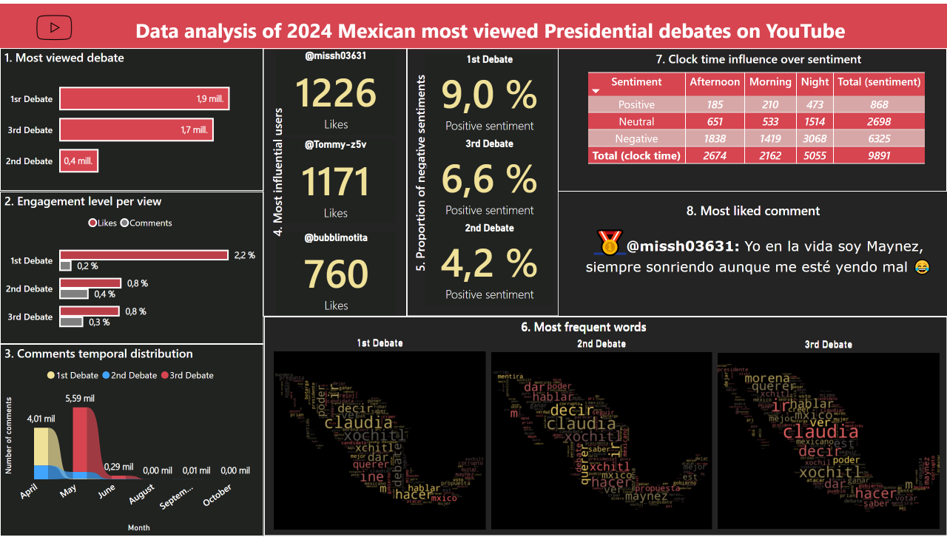

What the dashboard file says about the page in this screenshot:
{"tool":"powerbi","page":{"name":"Page 1","canvas":[1280,720],"ordinal":0},"visuals":[{"type":"shape","box":[0,0,1280,61.7],"z":0},{"type":"barChart","title":"1. Most viewed debate","fields":{"Y":["Sum(Query1.view_count)"],"Category":["Query1.title (groups)"]},"box":[0,60,356.7,192.9],"z":0,"group":"g3"},{"type":"shape","box":[355.2,60,195.9,362.9],"z":0,"group":"g6"},{"type":"shape","box":[549.2,60,206.2,362.5],"z":0,"group":"g7"},{"type":"card","fields":{"Values":["Sum(Query5.positive_ratio)"]},"box":[576.7,67.2,171.6,114.2],"z":0,"group":"g11"},{"type":"shape","box":[528.6,418,519.8,34.9],"z":0,"group":"g8"},{"type":"shape","box":[528.6,419,519.8,34.9],"z":0,"group":"g9"},{"type":"group","id":"g1","title":"Group 1","box":[373.1,62.2,162.9,359.2],"z":1000,"group":"g6"},{"type":"card","fields":{"Values":["Sum(Query4.likes_count)"]},"box":[373.1,62.2,162.6,115.6],"z":1000,"group":"g1"},{"type":"card","fields":{"Values":["Sum(Query5.positive_ratio)"]},"box":[576.7,181.4,171.6,114.2],"z":1000,"group":"g11"},{"type":"clusteredBarChart","title":"2. Engagement level per view","fields":{"Y":["Sum(Query2.like_percent)","Sum(Query2.comment_percent)"],"Category":["Query2.title (groups)"]},"box":[0,254,356.7,206],"z":1000,"group":"g3"},{"type":"shape","box":[758,262,520,34],"z":1000},{"type":"shape","box":[356.6,421.6,923.4,297.4],"z":1000,"group":"g8"},{"type":"shape","box":[356.6,422.6,923.4,297.4],"z":1000,"group":"g9"},{"type":"image","box":[0,0,146.7,64.4],"z":2000},{"type":"card","fields":{"Values":["Sum(Query5.positive_ratio)"]},"box":[576.7,295.6,171.6,114.2],"z":2000,"group":"g11"},{"type":"image","title":"1st Debate","box":[364.9,449.7,296.7,265],"z":2000,"group":"g8"},{"type":"image","title":"1st Debate","box":[364.9,450.7,296.7,265],"z":2000,"group":"g9"},{"type":"ribbonChart","title":"3. Comments temporal distribution","fields":{"Category":["Query3.updated_at_corrected.Variation.Date Hierarchy.Month"],"Y":["CountNonNull(Query3.comment_preprocessed)"],"Series":["Query3.title (groups)"]},"box":[0,460,356.7,260],"z":2000,"group":"g3"},{"type":"textbox","box":[178.3,11.7,1030,48.3],"z":3000},{"type":"group","id":"g2","title":"Group 3","box":[345.4,60,205.7,362.9],"z":3000,"group":"g5"},{"type":"card","fields":{"Values":["Sum(Query4.likes_count)"]},"box":[373.1,307.8,162.9,113.6],"z":3000,"group":"g1"},{"type":"image","title":"2nd Debate","box":[658.3,451.3,308.3,263.3],"z":3000,"group":"g8"},{"type":"image","title":"2nd Debate","box":[658.3,452.3,308.3,263.3],"z":3000,"group":"g9"},{"type":"group","id":"g3","title":"Group 9","box":[0,60,356.7,660],"z":4000},{"type":"group","id":"g4","title":"Group 6","box":[535.4,60,220,362.5],"z":4000,"group":"g5"},{"type":"image","title":"3rd Debate","box":[964.6,452,310,262],"z":4000,"group":"g8"},{"type":"image","title":"3rd Debate","box":[964.6,453,310,262],"z":4000,"group":"g9"},{"type":"group","id":"g5","title":"Group 10","box":[345.4,60,410,363.3],"z":5000},{"type":"card","fields":{"Values":["Sum(Query4.likes_count)"]},"box":[373.1,181.8,161.6,115.2],"z":5000,"group":"g1"},{"type":"group","id":"g6","title":"Group 2","box":[355.2,60,195.9,362.9],"z":6000,"group":"g2"},{"type":"group","id":"g7","title":"Group 2","box":[549.2,60,206.2,362.5],"z":6000,"group":"g12"},{"type":"pivotTable","title":"7. Clock time influence over sentiment","fields":{"Rows":["Query6.sentiment (groups)"],"Columns":["Query6.Time_category"],"Values":["CountNonNull(Query6.sentiment)"]},"box":[795,62.9,472.8,189.8],"z":6000,"group":"g10"},{"type":"group","id":"g8","title":"Group 7","box":[356.6,418,923.4,301],"z":6000},{"type":"group","id":"g9","title":"Group 7","box":[356.6,419,923.4,301],"z":7000},{"type":"shape","box":[345.4,66.7,58.5,321.5],"z":7001,"group":"g2"},{"type":"shape","box":[535.4,78.3,63.8,301.3],"z":7001,"group":"g4"},{"type":"group","id":"g10","title":"Group 8","box":[754,60,526,194],"z":8000},{"type":"shape","box":[754,60,526,194],"z":8000,"group":"g10"},{"type":"group","id":"g11","title":"Group 4","box":[576.7,67.2,171.6,342.5],"z":8003,"group":"g12"},{"type":"group","id":"g12","title":"Group 5","box":[549.2,60,206.2,362.5],"z":8004,"group":"g4"},{"type":"textbox","box":[782.5,295,485,112.5],"z":9000}]}

Visuals, with their boxes in screenshot pixels (x1, y1, x2, y2), scaled from the page's 1280x720 canvas onto the 947x540 screenshot:
shape: <bbox>0, 0, 946, 46</bbox>
"1. Most viewed debate" barChart: <bbox>0, 45, 264, 190</bbox>
shape: <bbox>263, 45, 408, 317</bbox>
shape: <bbox>406, 45, 559, 317</bbox>
card - Sum(Query5.positive_ratio): <bbox>427, 50, 554, 136</bbox>
shape: <bbox>391, 314, 776, 340</bbox>
shape: <bbox>391, 314, 776, 340</bbox>
"Group 1" group: <bbox>276, 47, 397, 316</bbox>
card - Sum(Query4.likes_count): <bbox>276, 47, 396, 133</bbox>
card - Sum(Query5.positive_ratio): <bbox>427, 136, 554, 222</bbox>
"2. Engagement level per view" clusteredBarChart: <bbox>0, 190, 264, 345</bbox>
shape: <bbox>561, 196, 946, 222</bbox>
shape: <bbox>264, 316, 946, 539</bbox>
shape: <bbox>264, 317, 946, 539</bbox>
image: <bbox>0, 0, 109, 48</bbox>
card - Sum(Query5.positive_ratio): <bbox>427, 222, 554, 307</bbox>
"1st Debate" image: <bbox>270, 337, 489, 536</bbox>
"1st Debate" image: <bbox>270, 338, 489, 537</bbox>
"3. Comments temporal distribution" ribbonChart: <bbox>0, 345, 264, 539</bbox>
textbox: <bbox>132, 9, 894, 45</bbox>
"Group 3" group: <bbox>256, 45, 408, 317</bbox>
card - Sum(Query4.likes_count): <bbox>276, 231, 397, 316</bbox>
"2nd Debate" image: <bbox>487, 338, 715, 536</bbox>
"2nd Debate" image: <bbox>487, 339, 715, 537</bbox>
"Group 9" group: <bbox>0, 45, 264, 539</bbox>
"Group 6" group: <bbox>396, 45, 559, 317</bbox>
"3rd Debate" image: <bbox>714, 339, 943, 536</bbox>
"3rd Debate" image: <bbox>714, 340, 943, 536</bbox>
"Group 10" group: <bbox>256, 45, 559, 317</bbox>
card - Sum(Query4.likes_count): <bbox>276, 136, 396, 223</bbox>
"Group 2" group: <bbox>263, 45, 408, 317</bbox>
"Group 2" group: <bbox>406, 45, 559, 317</bbox>
"7. Clock time influence over sentiment" pivotTable: <bbox>588, 47, 938, 190</bbox>
"Group 7" group: <bbox>264, 314, 946, 539</bbox>
"Group 7" group: <bbox>264, 314, 946, 539</bbox>
shape: <bbox>256, 50, 299, 291</bbox>
shape: <bbox>396, 59, 443, 285</bbox>
"Group 8" group: <bbox>558, 45, 946, 190</bbox>
shape: <bbox>558, 45, 946, 190</bbox>
"Group 4" group: <bbox>427, 50, 554, 307</bbox>
"Group 5" group: <bbox>406, 45, 559, 317</bbox>
textbox: <bbox>579, 221, 938, 306</bbox>
